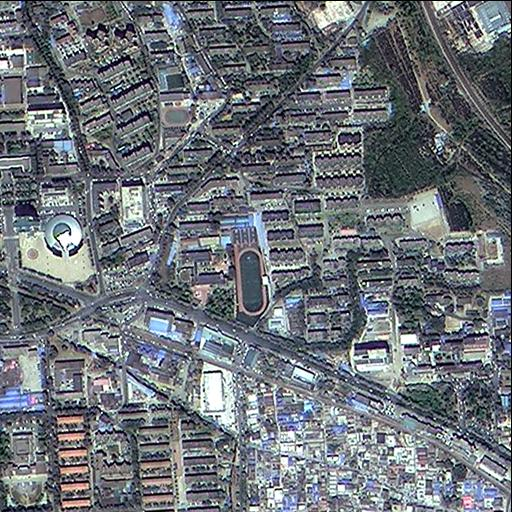school: (173, 221, 271, 327), (156, 65, 193, 129)
